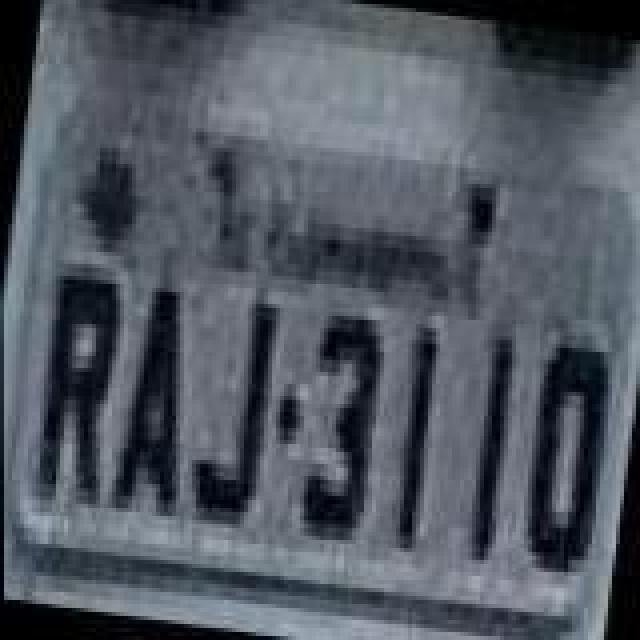1: (382, 314, 446, 558), (458, 326, 522, 570)
3: (286, 300, 390, 548)
A: (104, 276, 204, 524)
J: (182, 292, 286, 532)
O: (506, 332, 618, 580)
R: (24, 264, 132, 520)
